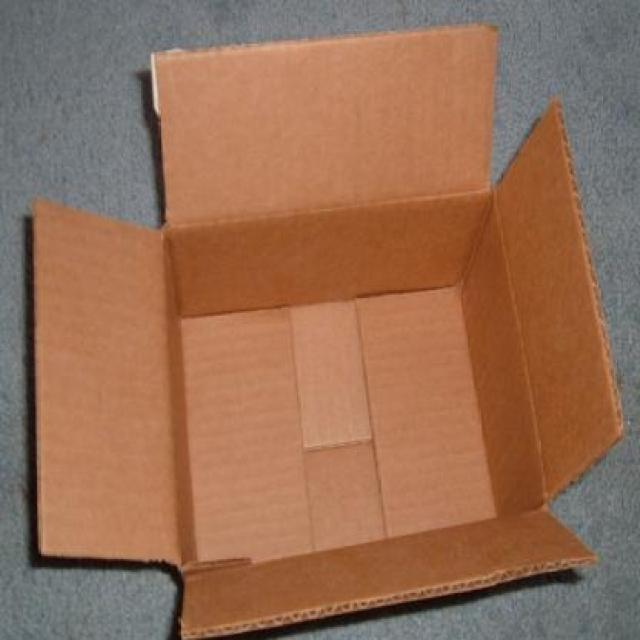box: (25, 16, 628, 640)
